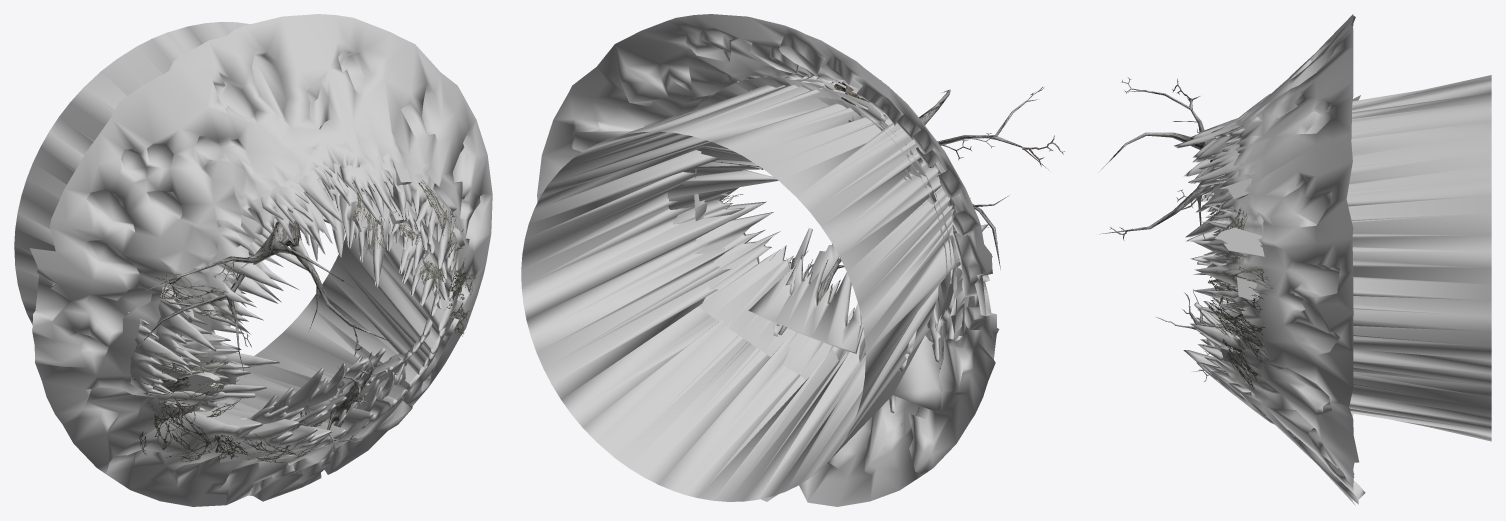
The picture shows the model from 3 angles, left to right: view 1: azimuth 30°, elevation 25°; view 2: azimuth 150°, elevation 25°; view 3: azimuth 270°, elevation 25°; orthographic projection. The views are drawn at different scales.
Parts seen in each view (by area): view 1: Material_#121, Material_#123; view 2: Material_#121; view 3: Material_#121, Material_#123.
Boxes of the visible parts, x1,y1,x2,y2 form: Material_#121: (14, 14, 492, 506); Material_#123: (133, 180, 475, 462); Material_#121: (521, 14, 1064, 506); Material_#121: (1098, 14, 1491, 505); Material_#123: (1207, 183, 1273, 389).
Size of the model in its own units: 17.69 by 17.61 by 14.3.
